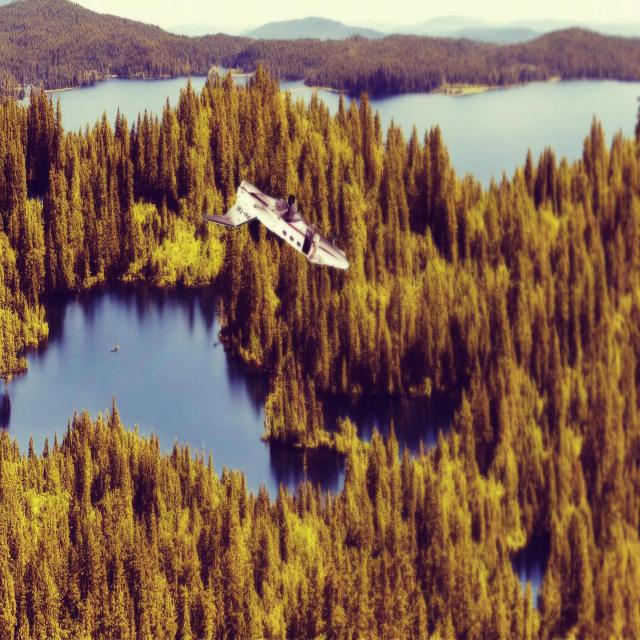airplane: (200, 178, 350, 272)
